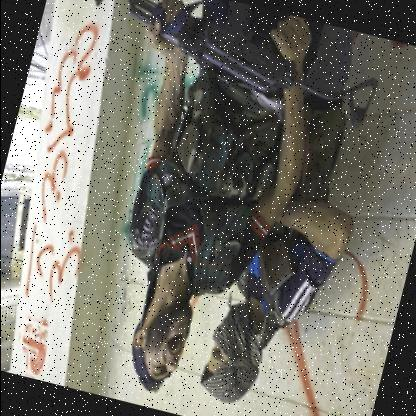rifle: (75, 0, 392, 140)
